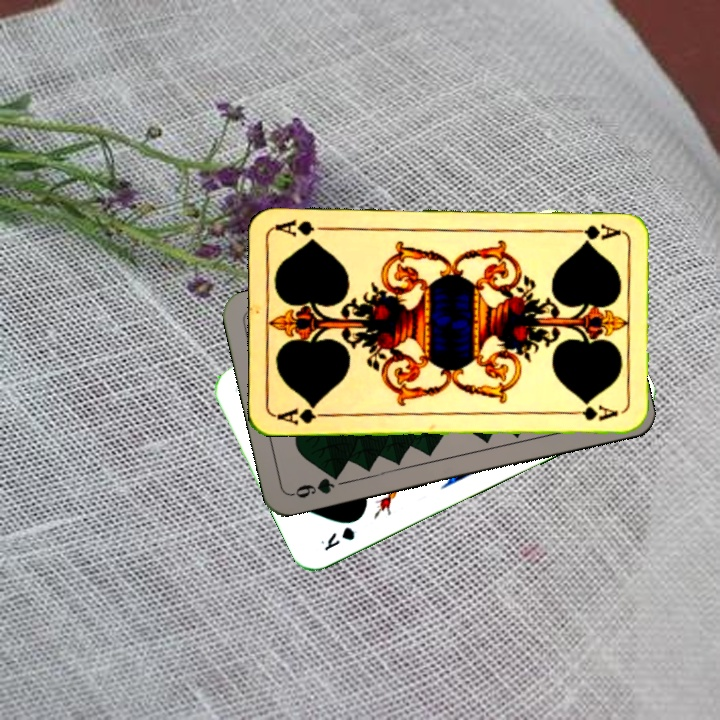G9: (288, 467, 344, 501)
GA: (273, 400, 332, 427), (563, 219, 622, 241)
GK: (316, 522, 358, 554)
